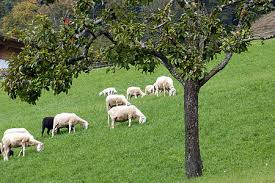sheep: (4, 127, 42, 161), (1, 122, 34, 147), (107, 106, 150, 125), (52, 114, 87, 134), (153, 75, 179, 98), (40, 115, 58, 136), (101, 95, 134, 106), (126, 86, 150, 100), (99, 86, 120, 96), (143, 83, 156, 97)
